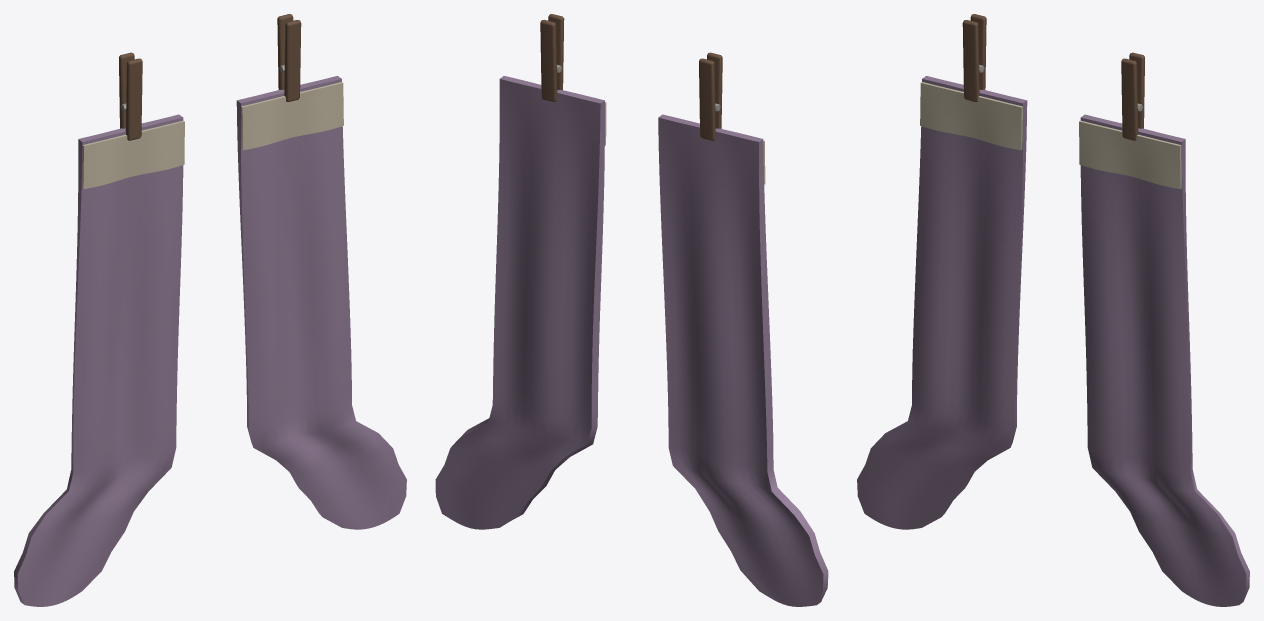
File: socks-line-mint-b99e91def6ca.glb
3 renders of one model, left to right at view 1: azimuth 30°, elevation 25°; view 2: azimuth 150°, elevation 25°; view 3: azimuth 330°, elevation 25°, orthographic.
Visible parts, largest first — view 1: cloth-lilac, cloth-cream, wood; view 2: cloth-lilac, wood; view 3: cloth-lilac, cloth-cream, wood.
Part boxes in pixels (bbox=[...]): cloth-lilac: bbox=[14, 76, 406, 606]; cloth-cream: bbox=[82, 82, 343, 189]; wood: bbox=[119, 14, 301, 140]; cloth-lilac: bbox=[435, 76, 828, 606]; wood: bbox=[540, 14, 722, 140]; cloth-lilac: bbox=[857, 76, 1249, 606]; cloth-cream: bbox=[920, 82, 1181, 189]; wood: bbox=[962, 14, 1144, 140].
Bounding box in the file's own units: 0.275 × 0.356 × 0.014.
